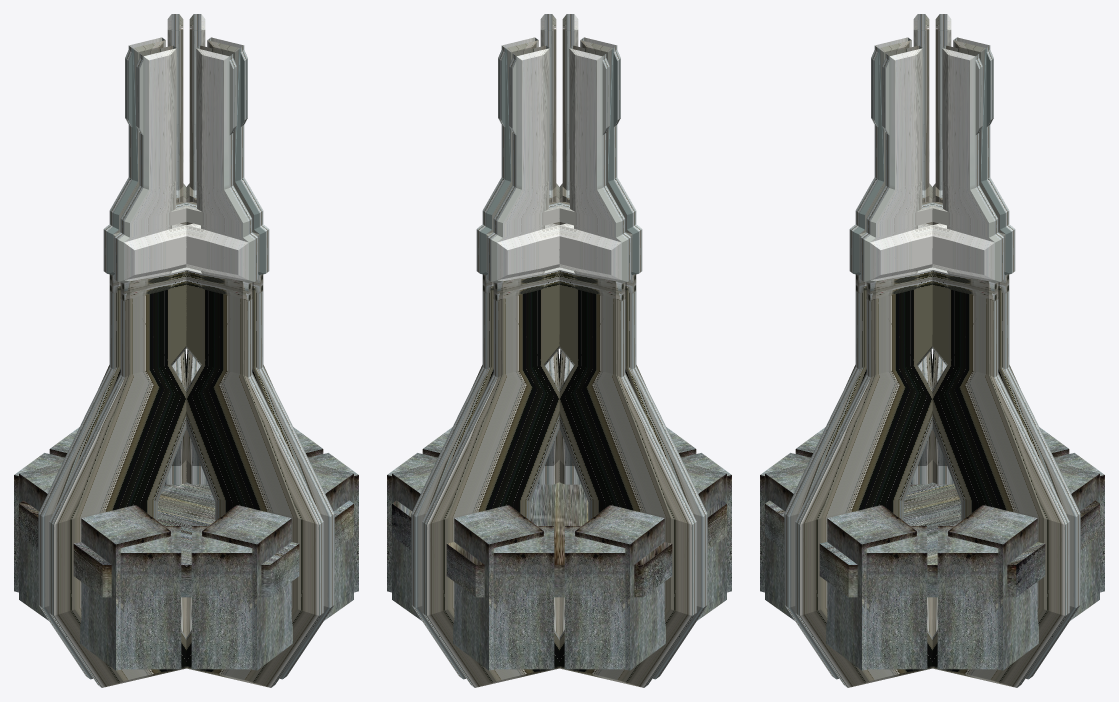
Rendered from hub_done.fbx.
The picture shows the model from 3 angles, left to right: view 1: azimuth 30°, elevation 25°; view 2: azimuth 150°, elevation 25°; view 3: azimuth 270°, elevation 25°; orthographic projection.
Visible parts, largest first — view 1: Cylinder_1; view 2: Cylinder_1; view 3: Cylinder_1.
Boxes of the visible parts, x1,y1,x2,y2 form: Cylinder_1: (14, 14, 358, 687); Cylinder_1: (387, 14, 731, 687); Cylinder_1: (760, 14, 1104, 687).
Size of the model in its own units: 75.25 by 159 by 80.25.
3 materials, 3 textured.
